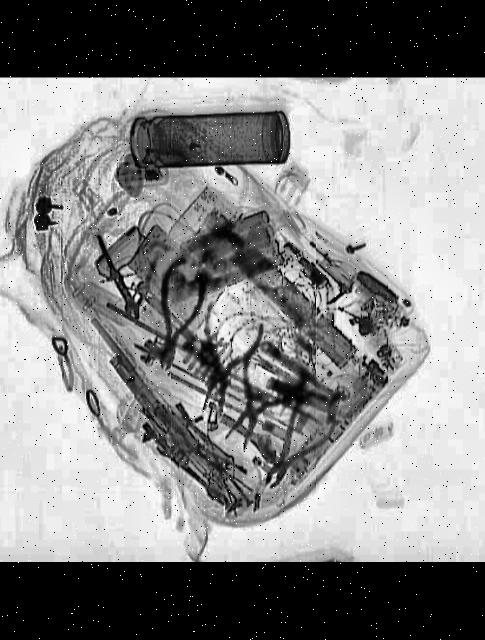Pliers: (203, 333, 314, 460), (241, 392, 347, 500), (176, 303, 268, 422), (138, 258, 212, 375)
